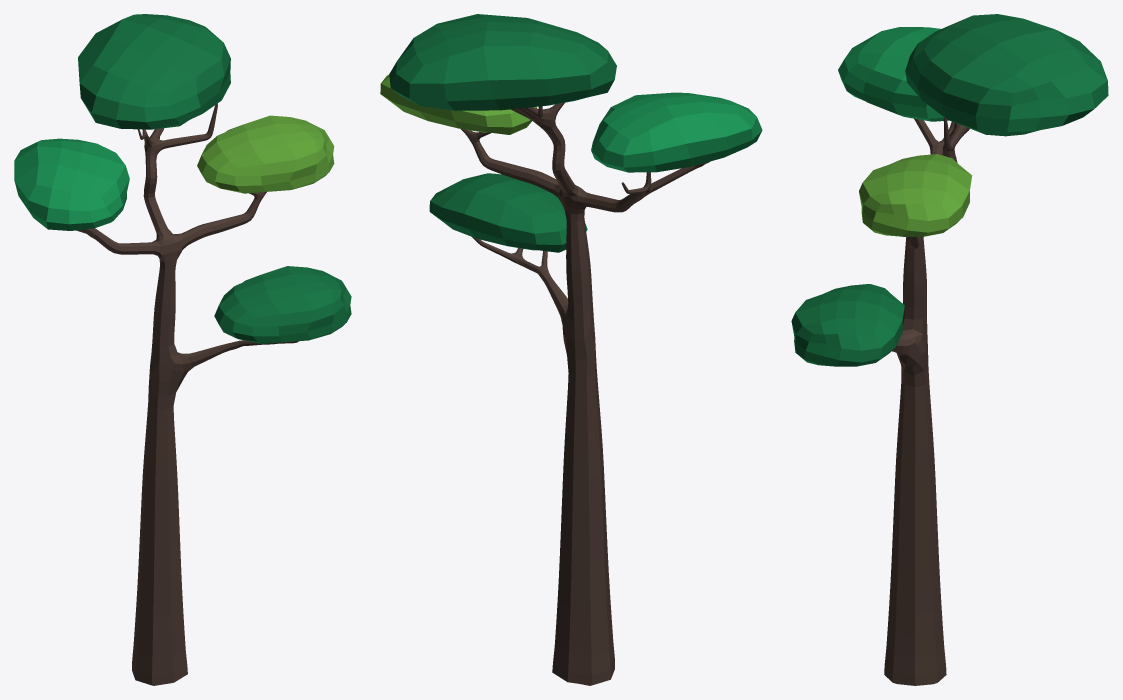
The model's file is jungle_tree_3.fbx.
3 views of the same model, side by side, from view 1: azimuth 30°, elevation 25°; view 2: azimuth 150°, elevation 25°; view 3: azimuth 270°, elevation 25° (orthographic). The views are drawn at different scales.
Visible parts, largest first — view 1: tree_3; view 2: tree_3; view 3: tree_3.
Boxes of the visible parts, x1,y1,x2,y2 form: tree_3: (14,14,351,685); tree_3: (380,14,762,685); tree_3: (791,14,1108,685).
Bounding box in the file's own units: 1365 × 2511 × 1084.
